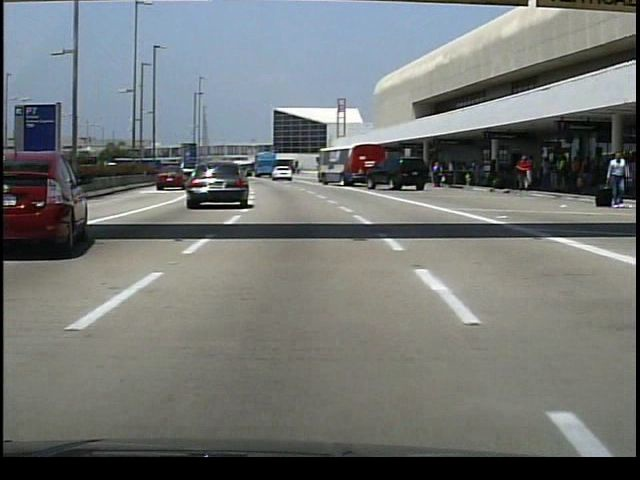person: (606, 152, 629, 209), (512, 153, 532, 192), (578, 157, 595, 194), (553, 152, 566, 191), (430, 160, 444, 189), (486, 158, 498, 187)
